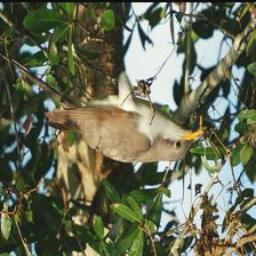Cuckoo: (42, 50, 208, 167)
